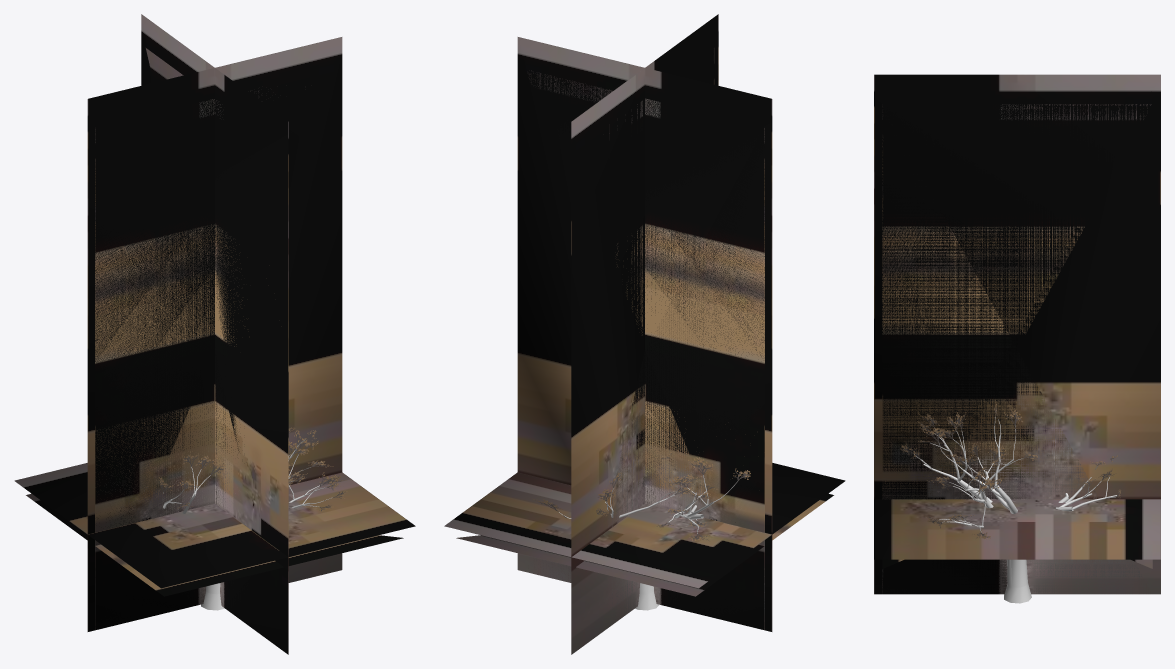
File: tree-deadoak.glb
3 renders of one model, left to right at view 1: azimuth 30°, elevation 25°; view 2: azimuth 150°, elevation 25°; view 3: azimuth 270°, elevation 25°, orthographic. The views are drawn at different scales.
Visible parts, largest first — view 1: impostor-0, impostor-1, lod0-leaves-1, lod0-wood-1; view 2: impostor-0, impostor-1, lod0-leaves-0, lod0-leaves-1, lod0-wood-1, lod0-wood-0; view 3: impostor-0, impostor-1, lod0-wood-0, lod0-leaves-0, lod0-wood-1, lod0-leaves-1.
Boxes of the visible parts, box(x1,y1,x2,y2) form: impostor-0: box(14, 14, 415, 654); impostor-1: box(26, 48, 403, 630); lod0-leaves-1: box(159, 427, 347, 511); lod0-wood-1: box(163, 454, 332, 610); impostor-0: box(444, 14, 845, 654); impostor-1: box(456, 48, 833, 630); lod0-leaves-0: box(533, 457, 750, 528); lod0-leaves-1: box(598, 452, 710, 542); lod0-wood-1: box(605, 487, 699, 610); lod0-wood-0: box(559, 475, 737, 609); impostor-0: box(874, 74, 1160, 594); impostor-1: box(882, 104, 1152, 594); lod0-wood-0: box(914, 417, 1116, 603); lod0-leaves-0: box(900, 402, 1120, 498); lod0-wood-1: box(939, 426, 1097, 598); lod0-leaves-1: box(925, 406, 1117, 539).
Size of what is drawn, in the model's own units: 16.79 by 33.78 by 16.79.
4 materials, 3 textured.
